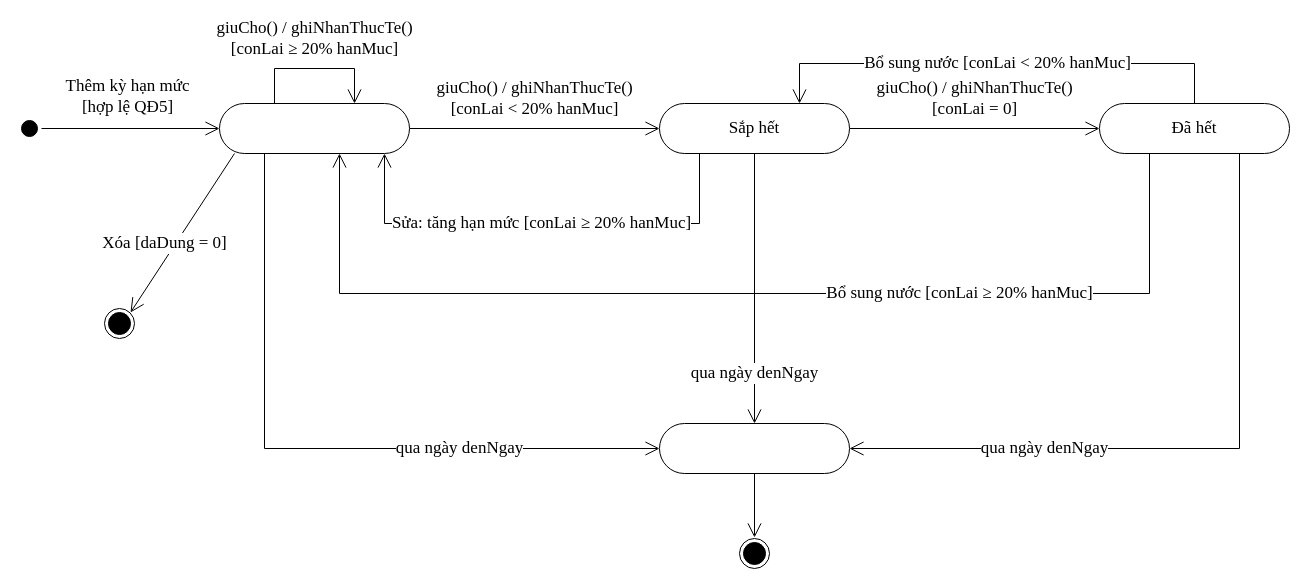
Some shapes in this 1307 by 586 pixel diagram are drawn without their labels. The centre of each missing label's shape, as x and y in pixels:
"Bình thường" belongs at (x=314, y=128).
"Đã kết thúc" belongs at (x=754, y=448).
